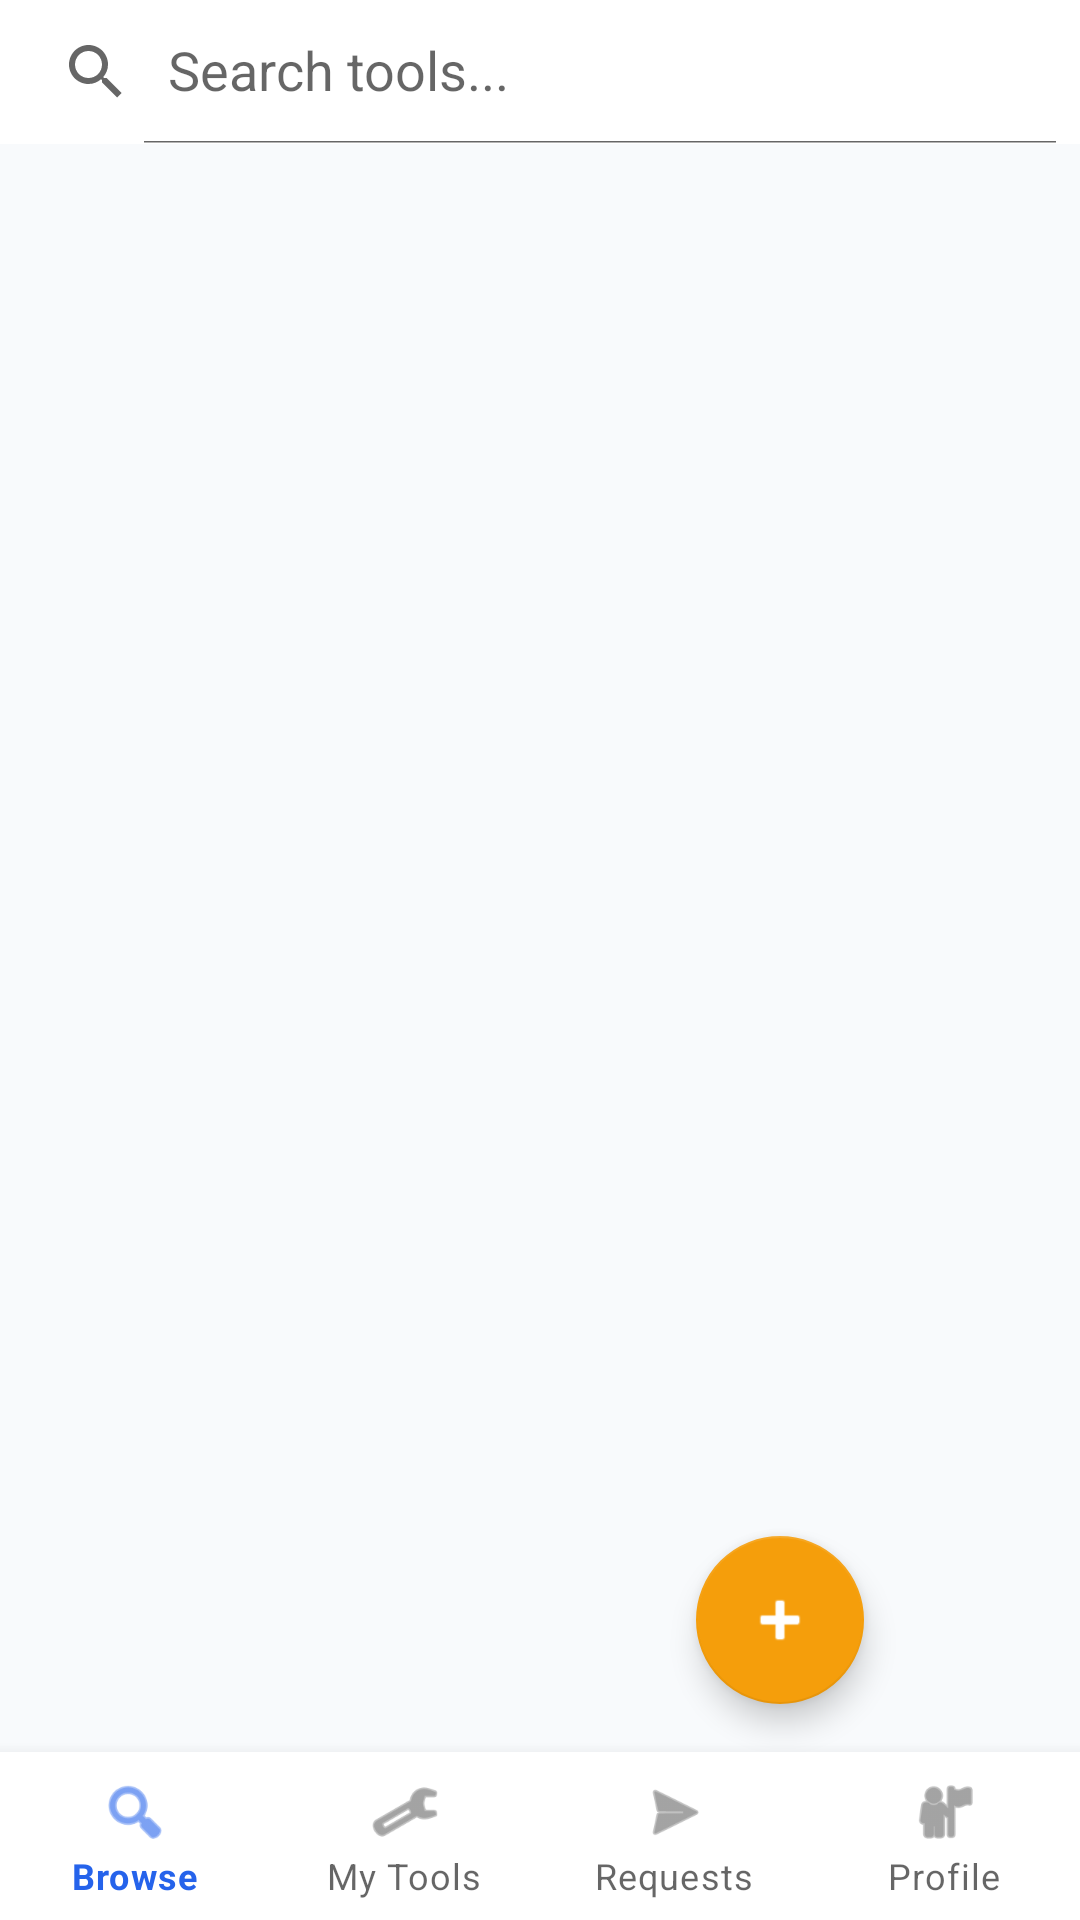

Named icons in this screenshot (1080*1920) and their centers, [x,y]:
Add Tool: [780,1620]
